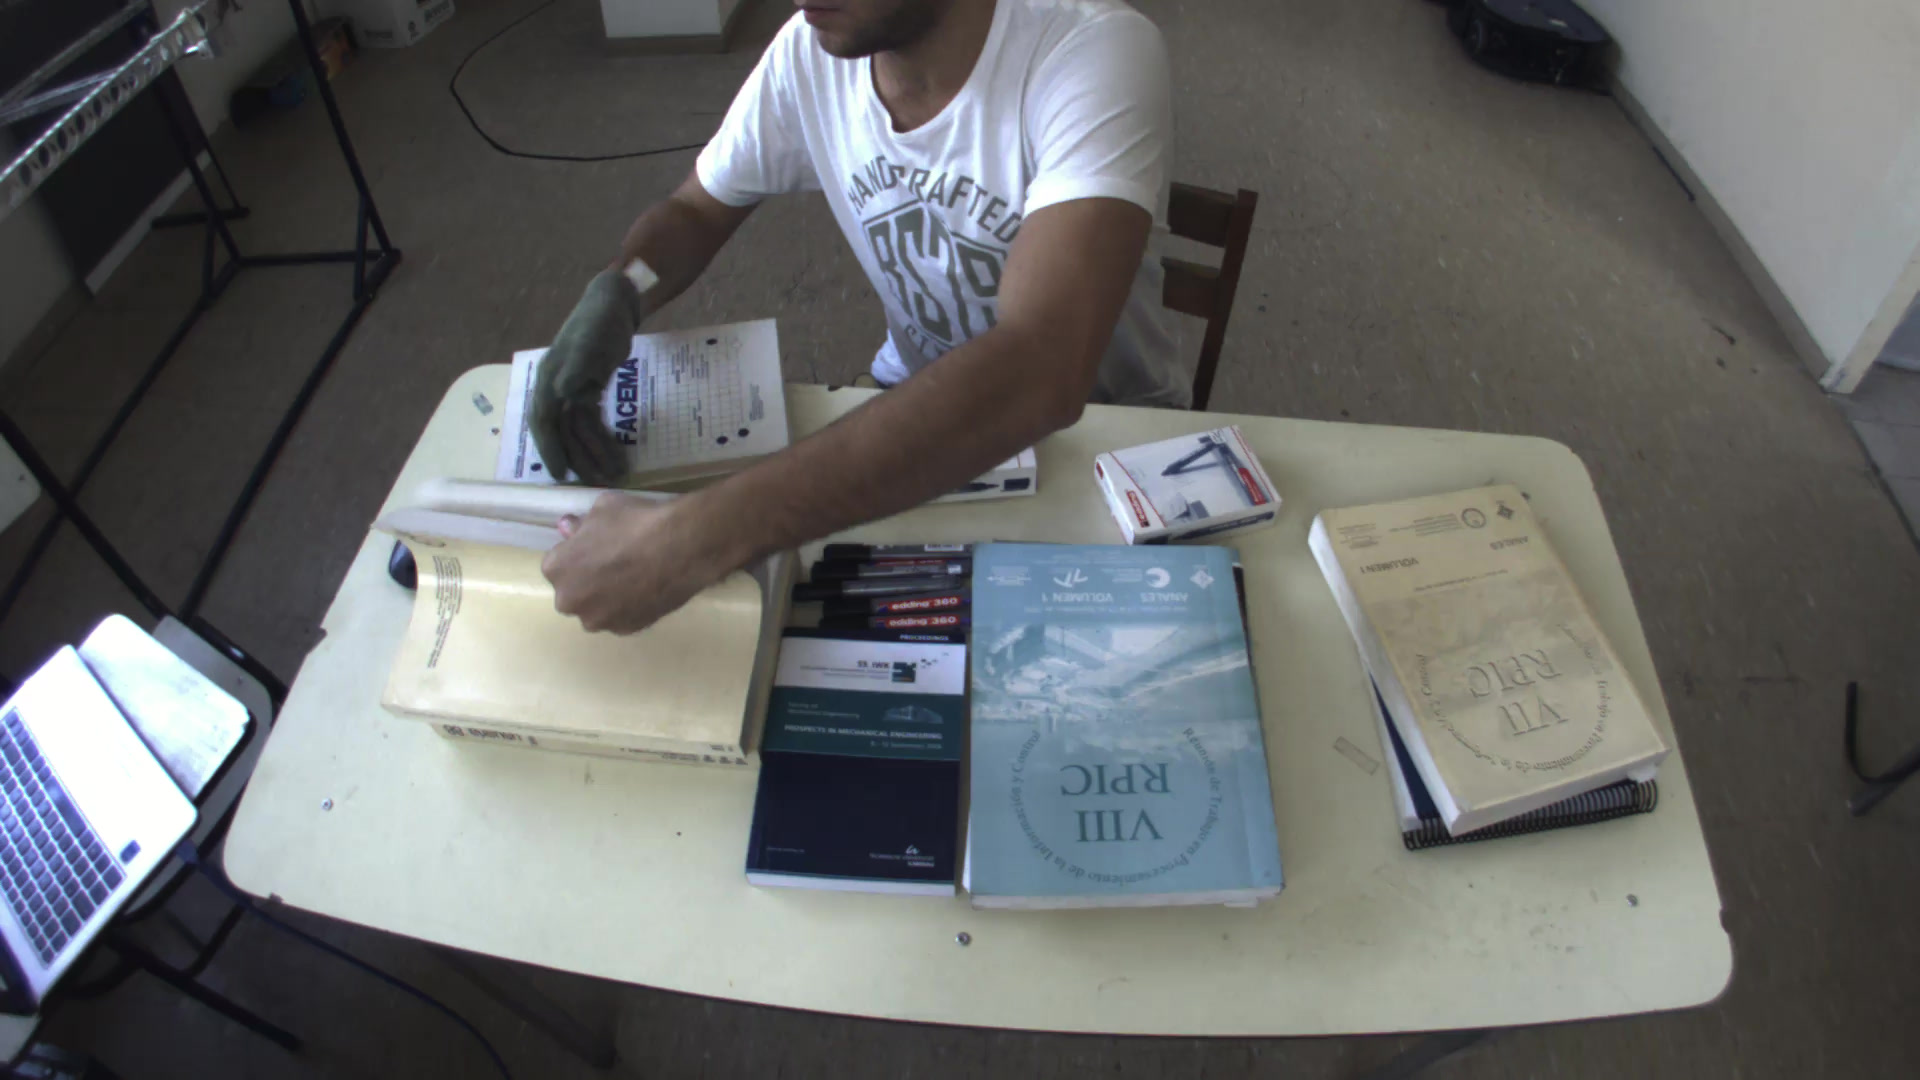hand: (535, 484, 692, 633), (525, 272, 637, 429)
